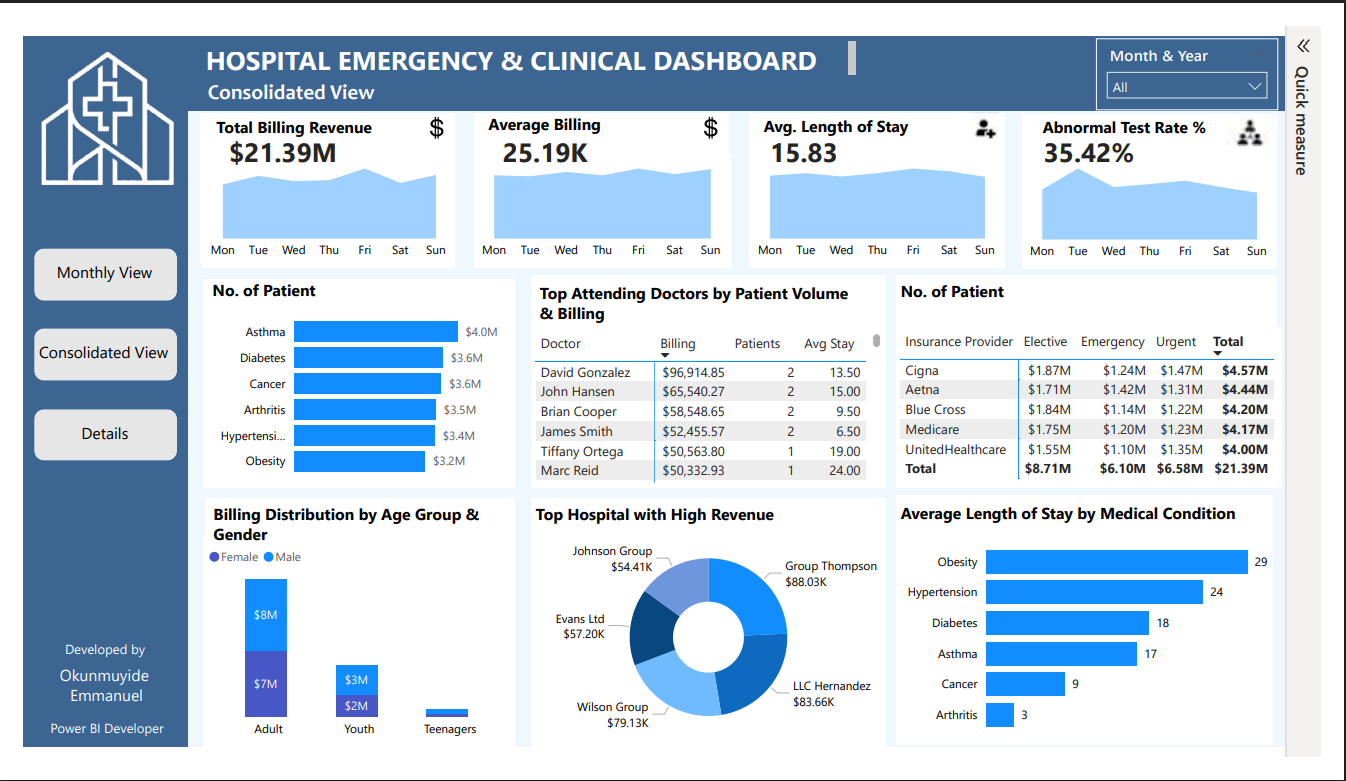

Layout of this report page (visuals, bound fields, positions):
{"tool":"powerbi","page":{"name":"Consolidated View","canvas":[1280,720],"ordinal":1},"visuals":[{"type":"shape","box":[0,0,167.4,720.4],"z":0},{"type":"shape","box":[152.9,0,1127.5,75.8],"z":1000},{"type":"textbox","box":[179.8,0,670.1,45.2],"z":2000},{"type":"textbox","box":[182.2,39.1,204.2,42.8],"z":3000},{"type":"shape","box":[11.2,215,145,52.5],"z":4000},{"type":"shape","box":[11.2,296.2,145,52.5],"z":5000},{"type":"shape","box":[11.2,377.5,145,52.5],"z":6000},{"type":"textbox","box":[28.8,222.5,123.8,42.5],"z":7000},{"type":"textbox","box":[11.2,303.8,158.8,42.5],"z":8000},{"type":"textbox","box":[53.8,386.2,75,42.5],"z":9000},{"type":"shape","box":[179.8,78.3,258,152.9],"z":10000},{"type":"shape","box":[1012.5,79.5,258,156.5],"z":11000},{"type":"shape","box":[457.3,78.3,258,156.5],"z":12000},{"type":"textbox","box":[1028.8,75.8,237.5,46.2],"z":13000},{"type":"textbox","box":[190.8,75.8,185.9,40.4],"z":14000},{"type":"lineChart","fields":{"Category":["healthcare_dataset.Admission Day"],"Y":["DAX Measures.Abnormal Rate %"]},"box":[1012.5,119.8,258,116.2],"z":15000},{"type":"textbox","box":[467.1,73.4,172.4,35.5],"z":16000},{"type":"cardVisual","fields":{"Data":["DAX Measures.Abnormal Rate %"]},"box":[1015,73.4,132.1,70.9],"z":17000},{"type":"shape","box":[182.5,245.6,317,211.3],"z":18000},{"type":"lineChart","fields":{"Category":["healthcare_dataset.Admission Day"],"Y":["DAX Measures.Total Revenue"]},"box":[182.2,119.8,255.6,114.9],"z":19000},{"type":"lineChart","fields":{"Category":["healthcare_dataset.Admission Day"],"Y":["DAX Measures.Avg Billing"]},"box":[457.3,119.8,259.2,114.9],"z":20000},{"type":"shape","box":[736.1,78.3,259.2,156.5],"z":21000},{"type":"cardVisual","fields":{"Data":["DAX Measures.Avg Billing"]},"box":[457.3,73.4,144.3,72.1],"z":22000},{"type":"clusteredBarChart","fields":{"Category":["healthcare_dataset.Medical Condition"],"Y":["DAX Measures.Total Revenue"]},"box":[182.5,266.2,317,190.7],"z":23000},{"type":"textbox","box":[745.9,74.6,207.9,44],"z":24000},{"type":"lineChart","fields":{"Category":["healthcare_dataset.Admission Day"],"Y":["DAX Measures.Avg Length of Stay"]},"box":[737.4,119.8,258,114.9],"z":25000},{"type":"cardVisual","fields":{"Data":["DAX Measures.Avg Length of Stay"]},"box":[733.7,73.4,116.2,70.9],"z":26000},{"type":"shape","box":[185.2,546.1,314.2,174.3],"z":27000},{"type":"textbox","box":[184.6,546.6,314.3,41.6],"z":28000},{"type":"textbox","box":[187.1,240.9,157.7,41.6],"z":29000},{"type":"shape","box":[185.2,467.9,314.2,252.5],"z":30000},{"type":"columnChart","fields":{"Y":["DAX Measures.Total Revenue"],"Category":["healthcare_dataset.Age Group"],"Series":["healthcare_dataset.Gender"]},"box":[182.5,507.7,317,212.7],"z":31000},{"type":"textbox","box":[188,467.9,311.5,56.3],"z":32000},{"type":"shape","box":[514.6,241.5,360.9,215.4],"z":33000},{"type":"pivotTable","fields":{"Rows":["healthcare_dataset.Doctor"],"Values":["DAX Measures.Total Revenue","DAX Measures.Total Patients","DAX Measures.Avg Length of Stay"]},"box":[514.6,296.4,360.9,160.5],"z":34000},{"type":"textbox","box":[518.7,244.3,330.7,54.9],"z":35000},{"type":"cardVisual","fields":{"Data":["DAX Measures.Total Revenue"]},"box":[181,73.4,165.1,66],"z":36000},{"type":"shape","box":[514.6,467.9,360.9,252.5],"z":37000},{"type":"donutChart","fields":{"Category":["healthcare_dataset.Hospital"],"Y":["DAX Measures.Total Revenue"]},"box":[514.6,498.1,360.9,222.3],"z":38000},{"type":"textbox","box":[514.6,467.9,273.1,42.5],"z":39000},{"type":"shape","box":[885.1,241.5,385.6,215.4],"z":40000},{"type":"pivotTable","fields":{"Values":["DAX Measures.Total Revenue"],"Rows":["healthcare_dataset.Insurance Provider"],"Columns":["healthcare_dataset.Admission Type"]},"box":[885.1,293.7,391.1,163.3],"z":41000},{"type":"textbox","box":[885.1,241.5,157.8,41.2],"z":42000},{"type":"shape","box":[885.1,465.2,381.5,252.5],"z":43000},{"type":"clusteredBarChart","fields":{"Category":["healthcare_dataset.Medical Condition"],"Y":["DAX Measures.Avg Length of Stay"]},"box":[885.1,495.4,381.5,222.3],"z":44000},{"type":"textbox","box":[885.3,467.1,380.3,42.8],"z":45000},{"type":"slicer","fields":{"Values":["healthcare_dataset.Month & Year"]},"box":[1088.3,2.4,184.6,72.1],"z":46000},{"type":"image","box":[1.2,2.4,167.5,157.7],"z":47000},{"type":"textbox","box":[29.3,606.5,107.6,34.2],"z":48000},{"type":"textbox","box":[25.7,631,117.4,59.9],"z":49000},{"type":"textbox","box":[2.4,687,165.1,33],"z":50000},{"type":"image","box":[953.8,72.1,42.8,40.4],"z":51000},{"type":"image","box":[677.4,75.8,39.1,34.2],"z":52000},{"type":"image","box":[398.6,75.8,39.1,34.2],"z":53000},{"type":"image","box":[1215.5,63.6,57.5,70.9],"z":54000}]}

Visuals, with their boxes on the page's 1280x720 design canvas (x1, y1, x2, y2). These are canvas units, not pixel positions in the 1346x781 screenshot, which may show the page scaled, cropped or inside an application window:
shape: rect(0, 0, 167, 720)
shape: rect(153, 0, 1280, 76)
textbox: rect(180, 0, 850, 45)
textbox: rect(182, 39, 386, 82)
shape: rect(11, 215, 156, 268)
shape: rect(11, 296, 156, 349)
shape: rect(11, 378, 156, 430)
textbox: rect(29, 222, 153, 265)
textbox: rect(11, 304, 170, 346)
textbox: rect(54, 386, 129, 429)
shape: rect(180, 78, 438, 231)
shape: rect(1012, 80, 1270, 236)
shape: rect(457, 78, 715, 235)
textbox: rect(1029, 76, 1266, 122)
textbox: rect(191, 76, 377, 116)
lineChart - healthcare_dataset.Admission Day x DAX Measures.Abnormal Rate %: rect(1012, 120, 1270, 236)
textbox: rect(467, 73, 640, 109)
cardVisual - DAX Measures.Abnormal Rate %: rect(1015, 73, 1147, 144)
shape: rect(182, 246, 500, 457)
lineChart - healthcare_dataset.Admission Day x DAX Measures.Total Revenue: rect(182, 120, 438, 235)
lineChart - healthcare_dataset.Admission Day x DAX Measures.Avg Billing: rect(457, 120, 716, 235)
shape: rect(736, 78, 995, 235)
cardVisual - DAX Measures.Avg Billing: rect(457, 73, 602, 146)
clusteredBarChart - healthcare_dataset.Medical Condition x DAX Measures.Total Revenue: rect(182, 266, 500, 457)
textbox: rect(746, 75, 954, 119)
lineChart - healthcare_dataset.Admission Day x DAX Measures.Avg Length of Stay: rect(737, 120, 995, 235)
cardVisual - DAX Measures.Avg Length of Stay: rect(734, 73, 850, 144)
shape: rect(185, 546, 499, 720)
textbox: rect(185, 547, 499, 588)
textbox: rect(187, 241, 345, 282)
shape: rect(185, 468, 499, 720)
columnChart - DAX Measures.Total Revenue x healthcare_dataset.Age Group: rect(182, 508, 500, 720)
textbox: rect(188, 468, 500, 524)
shape: rect(515, 242, 876, 457)
pivotTable - healthcare_dataset.Doctor x DAX Measures.Total Revenue: rect(515, 296, 876, 457)
textbox: rect(519, 244, 849, 299)
cardVisual - DAX Measures.Total Revenue: rect(181, 73, 346, 139)
shape: rect(515, 468, 876, 720)
donutChart - healthcare_dataset.Hospital x DAX Measures.Total Revenue: rect(515, 498, 876, 720)
textbox: rect(515, 468, 788, 510)
shape: rect(885, 242, 1271, 457)
pivotTable - DAX Measures.Total Revenue x healthcare_dataset.Insurance Provider: rect(885, 294, 1276, 457)
textbox: rect(885, 242, 1043, 283)
shape: rect(885, 465, 1267, 718)
clusteredBarChart - healthcare_dataset.Medical Condition x DAX Measures.Avg Length of Stay: rect(885, 495, 1267, 718)
textbox: rect(885, 467, 1266, 510)
slicer - healthcare_dataset.Month & Year: rect(1088, 2, 1273, 74)
image: rect(1, 2, 169, 160)
textbox: rect(29, 606, 137, 641)
textbox: rect(26, 631, 143, 691)
textbox: rect(2, 687, 168, 720)
image: rect(954, 72, 997, 112)
image: rect(677, 76, 716, 110)
image: rect(399, 76, 438, 110)
image: rect(1216, 64, 1273, 134)
